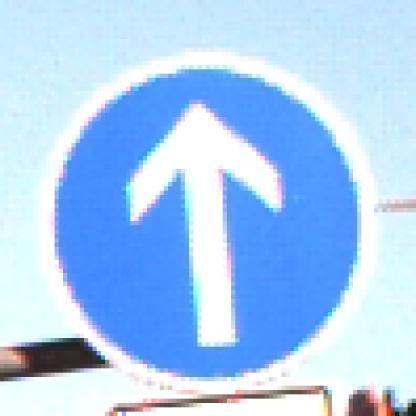AheadOnly: (39, 40, 383, 382)
